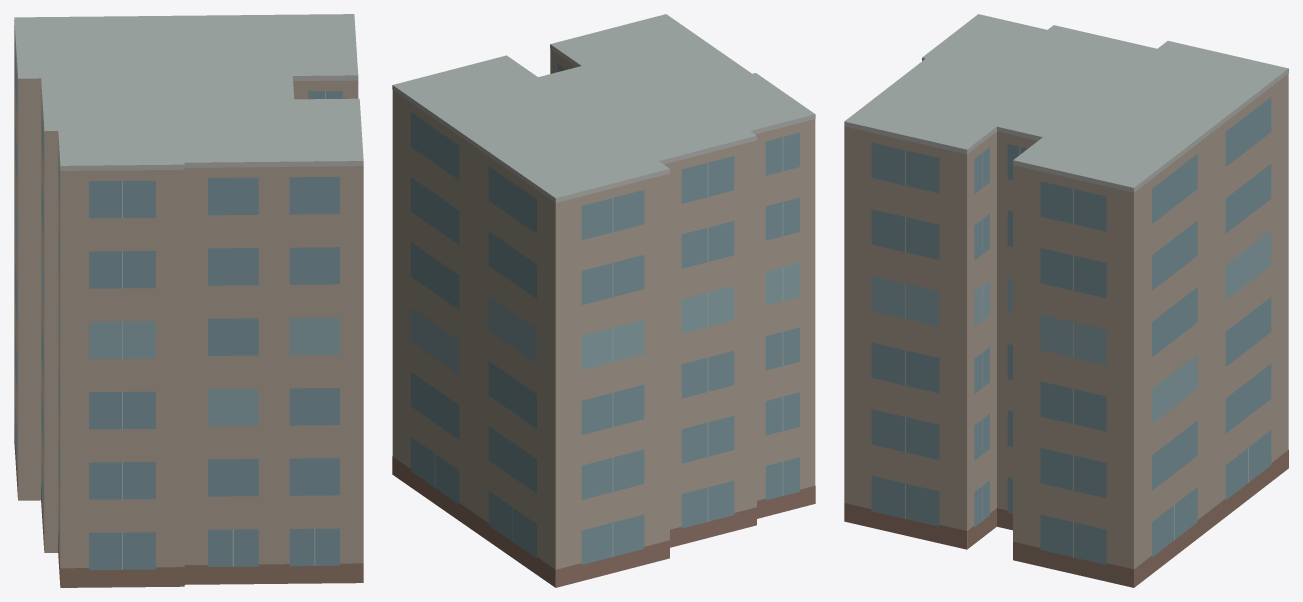
Rendered from survey-upis-32667993.glb.
The picture shows the model from 3 angles, left to right: view 1: azimuth 30°, elevation 25°; view 2: azimuth 150°, elevation 25°; view 3: azimuth 270°, elevation 25°; orthographic projection. The views are drawn at different scales.
Parts seen in each view (by area): view 1: survey-upis-32667993.tmp; view 2: survey-upis-32667993.tmp; view 3: survey-upis-32667993.tmp.
Part boxes in pixels (x1,y1,x2,y2): survey-upis-32667993.tmp: [14, 14, 363, 587]; survey-upis-32667993.tmp: [392, 14, 815, 587]; survey-upis-32667993.tmp: [844, 14, 1288, 587].
Size of the model in its own units: 18.8 by 20.15 by 20.31.
